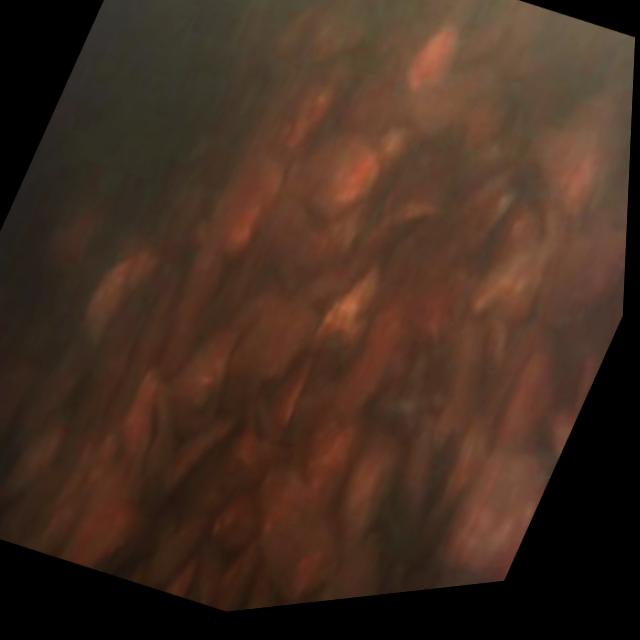Oyster-Closed: (531, 95, 610, 240), (62, 461, 151, 573), (123, 369, 176, 531), (170, 317, 237, 435)
Oyster-Indeterminate: (436, 441, 551, 585), (261, 463, 344, 605), (298, 130, 376, 223), (339, 309, 398, 421), (488, 347, 549, 452), (237, 299, 312, 384), (336, 446, 399, 547), (391, 144, 453, 231), (0, 418, 58, 504), (322, 265, 378, 352), (87, 254, 131, 349), (320, 534, 373, 601)
Oyster-Open: (242, 394, 278, 455)
